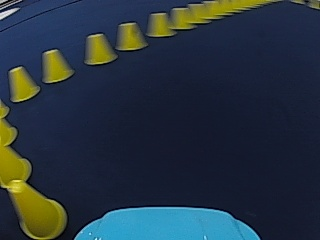cone: (6, 179, 65, 236), (7, 65, 40, 102), (40, 48, 74, 83), (1, 142, 31, 181), (83, 32, 116, 65), (115, 21, 147, 51), (146, 12, 171, 37), (170, 7, 193, 29), (1, 115, 17, 146)
